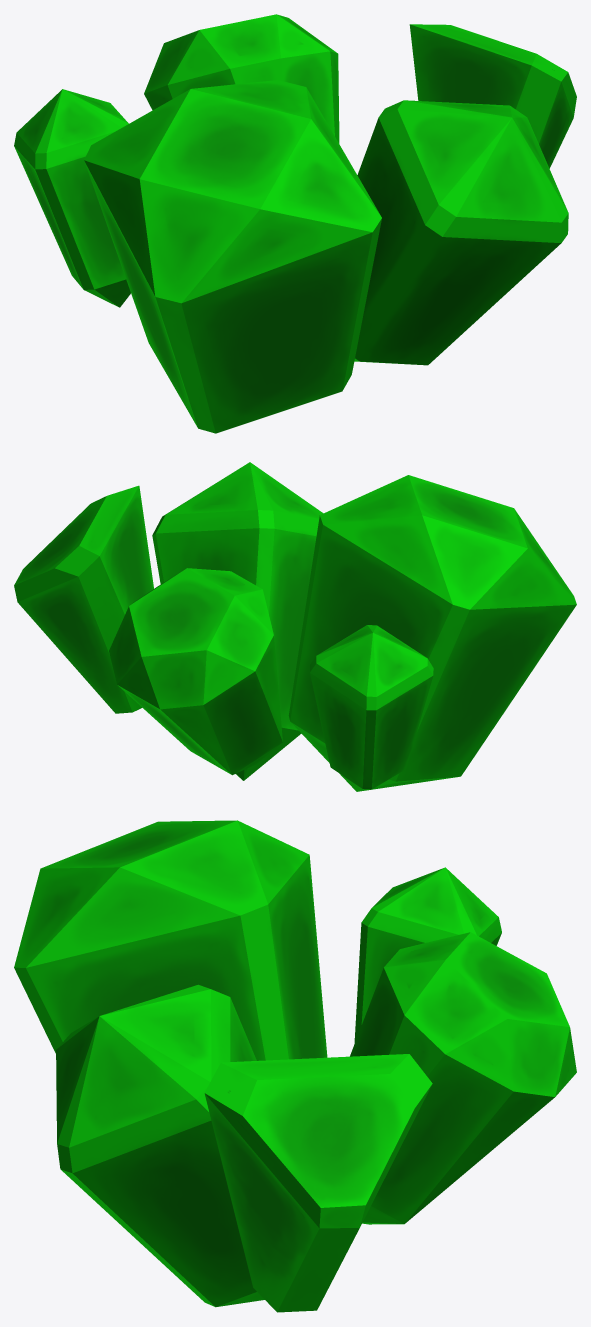
Rendered from GemClusterSmall.fbx.
3 views of the same model, one above another, from view 1: azimuth 30°, elevation 25°; view 2: azimuth 150°, elevation 25°; view 3: azimuth 270°, elevation 25° (orthographic). The views are drawn at different scales.
Visible parts, largest first — view 1: GemClusterSmall; view 2: GemClusterSmall; view 3: GemClusterSmall.
Boxes of the visible parts, <box> form: GemClusterSmall: <box>14,14,576,433</box>; GemClusterSmall: <box>14,462,576,791</box>; GemClusterSmall: <box>14,820,576,1312</box>.
Bounding box in the file's own units: 98.54 × 59.33 × 80.61.
1 material, 1 textured.
